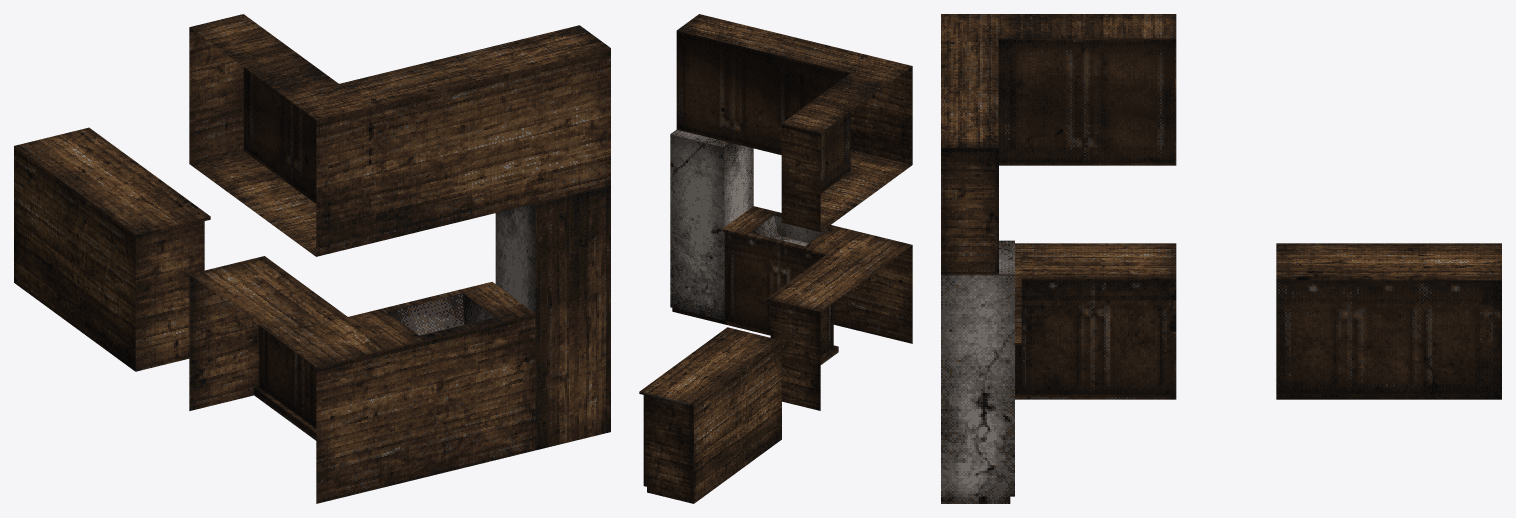
Rendered from kitchen-1.glb.
The picture shows the model from 3 angles, left to right: view 1: azimuth 30°, elevation 25°; view 2: azimuth 150°, elevation 25°; view 3: azimuth 270°, elevation 25°; orthographic projection. The views are drawn at different scales.
Visible parts, largest first — view 1: kitchen-col; view 2: kitchen-col; view 3: kitchen-col.
Part boxes in pixels (x1,y1,x2,y2): kitchen-col: (14, 14, 610, 503); kitchen-col: (639, 14, 912, 503); kitchen-col: (941, 14, 1501, 503).
Size of the model in its own units: 1.96 by 2.44 by 3.48.
Materials: 1 (1 with a texture image).
